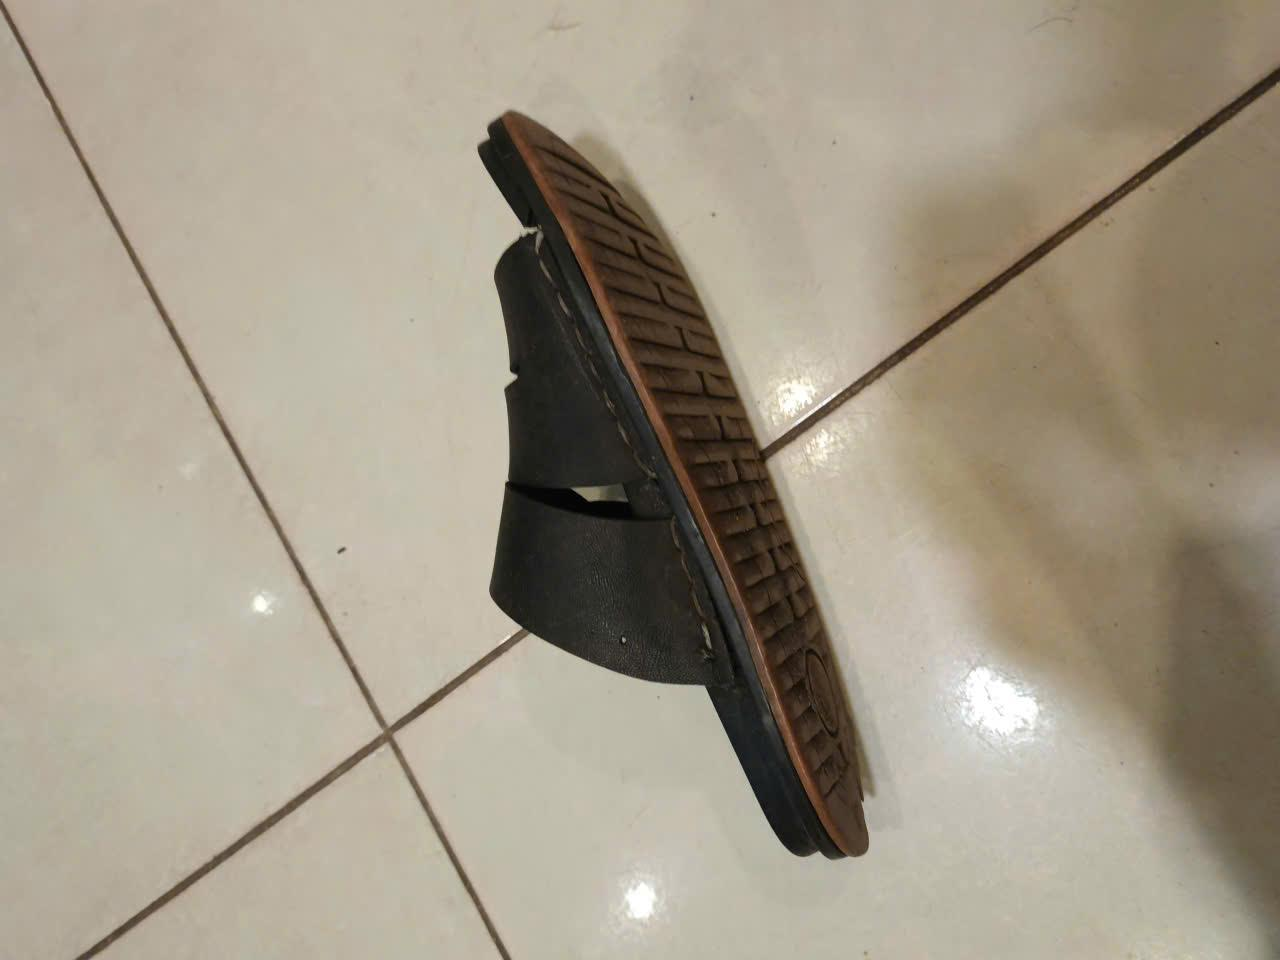Con lai: (474, 108, 871, 861)
